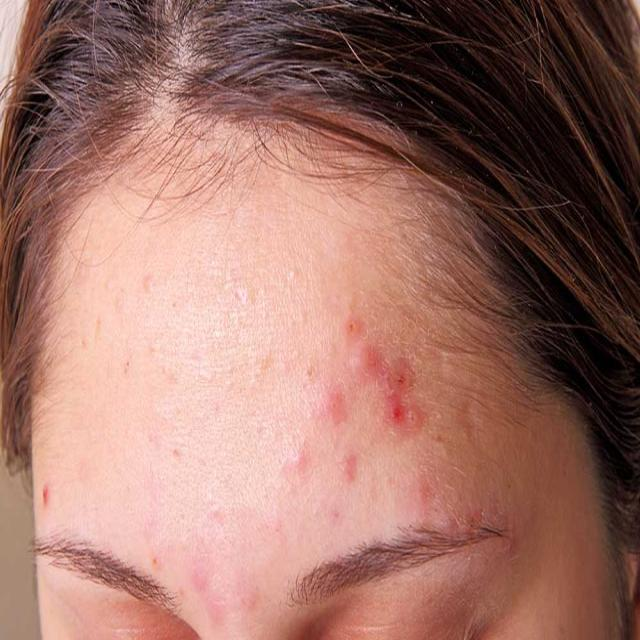Acne: (238, 310, 488, 517)
Oily-Skin: (97, 183, 611, 638)
